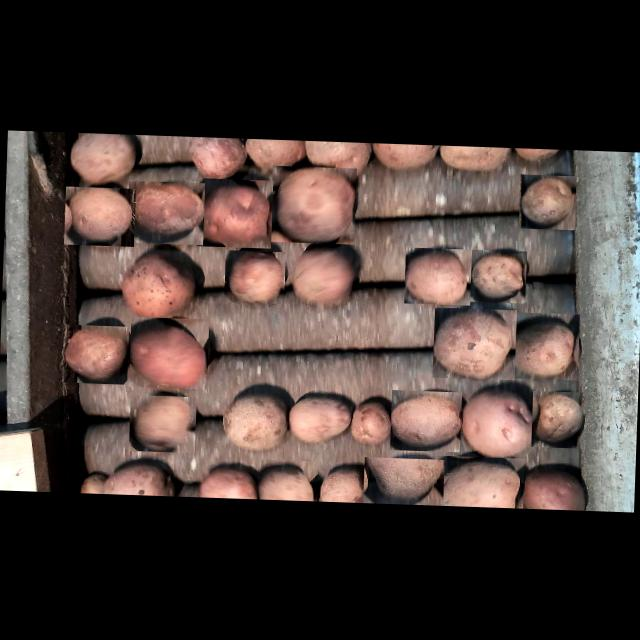Diseased-fungal potato: (268, 164, 356, 243), (432, 306, 516, 379), (116, 246, 196, 320), (128, 315, 208, 388), (457, 388, 538, 458), (196, 176, 272, 248), (125, 179, 203, 244), (434, 454, 524, 507), (508, 311, 578, 379), (388, 388, 461, 451), (218, 388, 288, 452), (62, 184, 134, 246), (58, 323, 128, 383), (64, 131, 140, 184), (127, 394, 196, 452), (402, 246, 470, 304), (362, 456, 444, 504), (283, 391, 354, 445), (516, 462, 590, 508), (222, 248, 284, 302), (518, 173, 576, 229), (466, 248, 526, 302), (530, 389, 584, 448), (256, 458, 317, 500), (346, 396, 394, 446), (314, 459, 364, 502)
